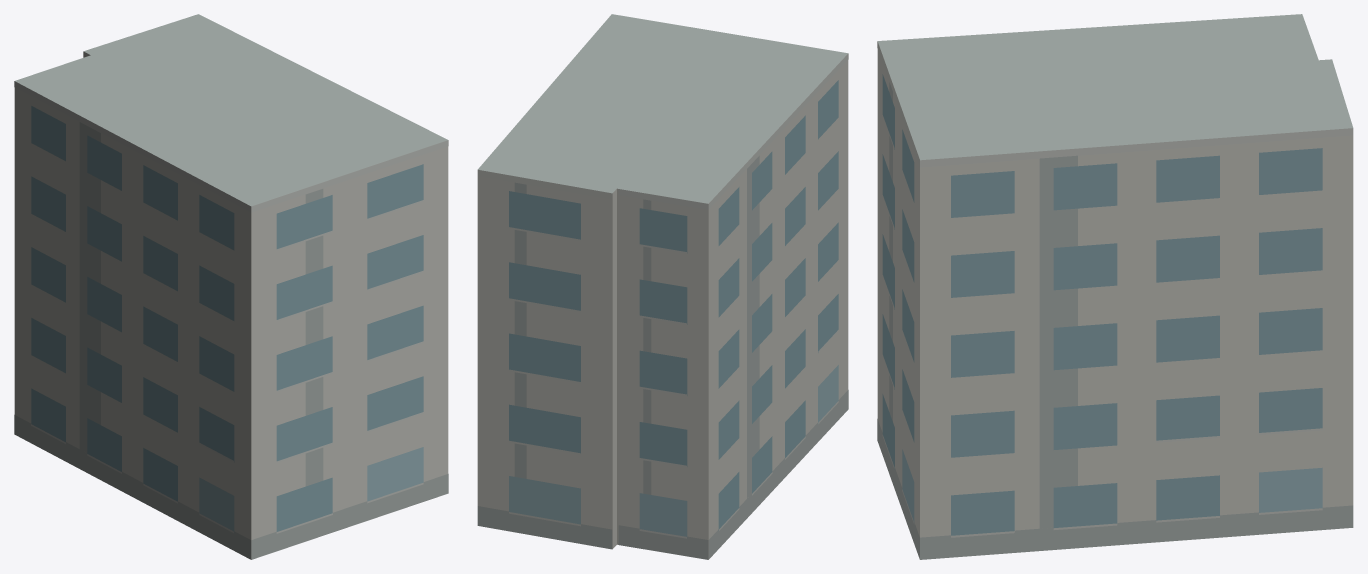
File: survey-upis-32849493.glb
The picture shows the model from 3 angles, left to right: view 1: azimuth 30°, elevation 25°; view 2: azimuth 150°, elevation 25°; view 3: azimuth 270°, elevation 25°; orthographic projection. The views are drawn at different scales.
Parts seen in each view (by area): view 1: survey-upis-32849493.tmp; view 2: survey-upis-32849493.tmp; view 3: survey-upis-32849493.tmp.
Part boxes in pixels (bbox=[...]): survey-upis-32849493.tmp: bbox=[14, 14, 448, 559]; survey-upis-32849493.tmp: bbox=[477, 14, 848, 559]; survey-upis-32849493.tmp: bbox=[877, 14, 1353, 559].
Size of the model in its own units: 10.68 by 13.6 by 14.69.
